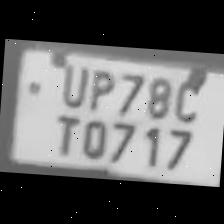0: (76, 111, 108, 158)
1: (135, 118, 163, 165)
7: (160, 120, 194, 169), (111, 66, 144, 116), (104, 115, 136, 162)
8: (142, 70, 174, 120)
C: (168, 66, 206, 120)
P: (83, 63, 116, 113)
T: (46, 107, 81, 154)
U: (54, 58, 88, 108)
